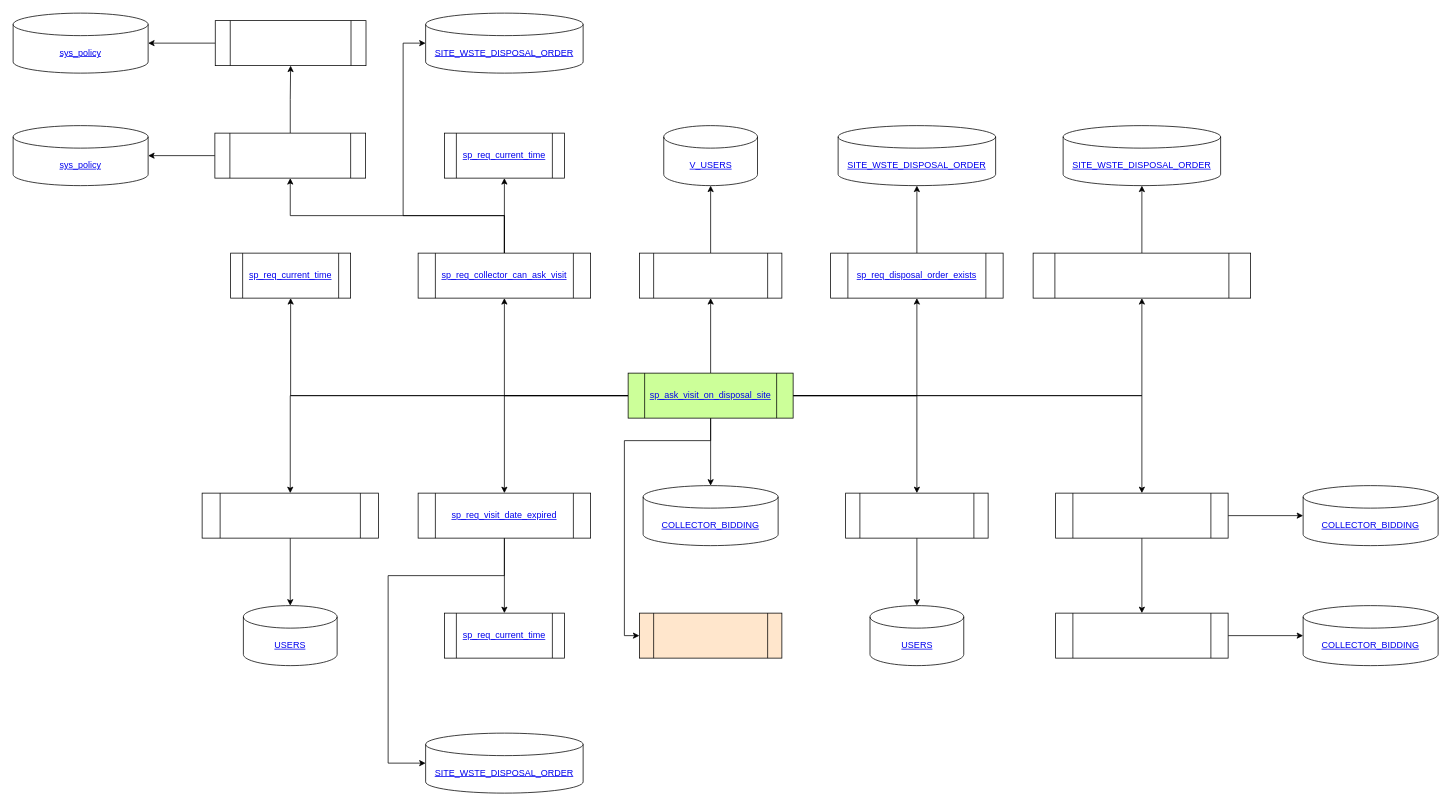
The diagram is 1451 pixels wide and 806 high, and some of its shapes have lost their labels. The centre of each missing label's shape, as x and y in pixels:
"sp_create_collector_bidding" goes at (x=1141, y=515).
"sp_req_collect_bidding_max_id" goes at (x=1141, y=635).
"sp_req_is_user_collector" goes at (x=710, y=275).
"sp_req_is_visit_schedule_close_early" goes at (x=1141, y=275).
"sp_req_policy_direction" goes at (x=290, y=155).
"sp_req_policy_exists" goes at (x=290, y=43).
"sp_req_site_id_of_user_reg_id" goes at (x=289, y=515).
"sp_req_user_exists_by_id" goes at (x=916, y=515).
"sp_return_results" goes at (x=710, y=635).
